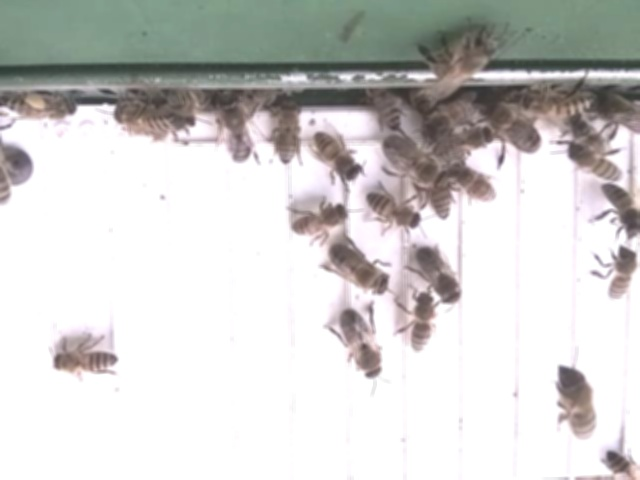Drone: (380, 134, 449, 195), (480, 98, 545, 158), (337, 306, 386, 385), (326, 242, 393, 298), (413, 245, 465, 308), (216, 94, 255, 167)
Worker: (412, 24, 501, 88), (310, 129, 367, 185), (443, 161, 500, 206), (363, 191, 423, 233), (268, 102, 306, 168), (519, 88, 597, 120), (601, 182, 640, 245), (289, 201, 350, 240), (568, 142, 626, 183), (602, 242, 640, 303), (406, 291, 439, 356), (433, 127, 496, 161), (116, 106, 186, 136), (49, 349, 121, 377), (430, 172, 453, 223)
